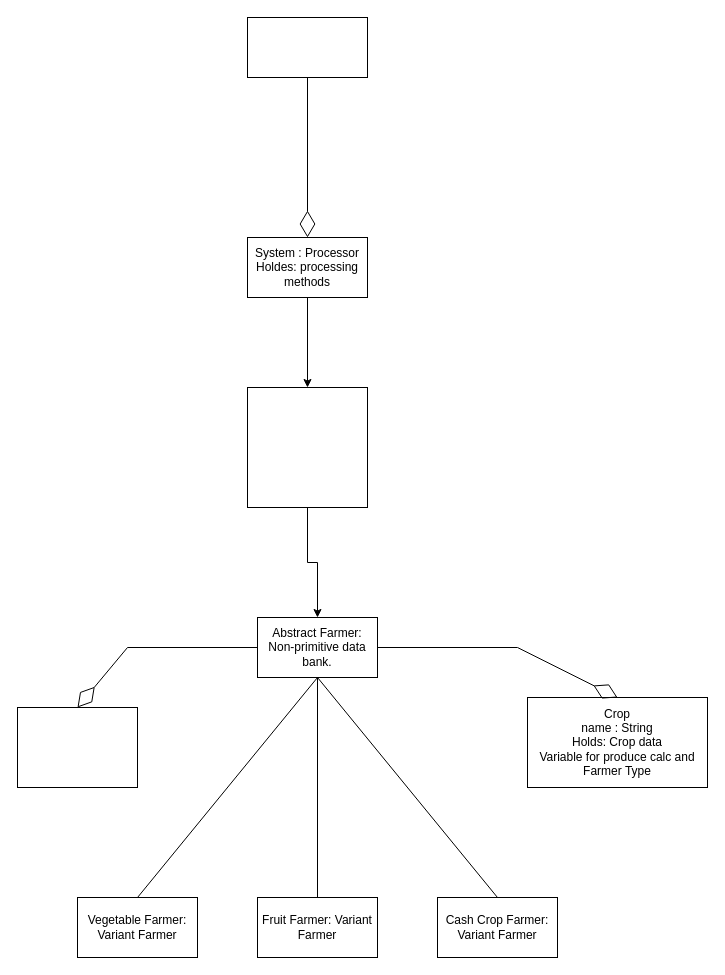
This 725x975 diagram has some shape labels left out. The shapes that lost their labels are listed below. From the top down, each one's box as (x1, y1, x2, y2) in pixels, then its label:
(246, 16, 368, 78): Admin : Database Holds: System, ArrayList.
(246, 386, 368, 508): Expert: String Generator Holds: data parsing methods, String generating methods
(16, 706, 138, 788): Soil name : String Holdes: Soil data. Variable for produce calc
